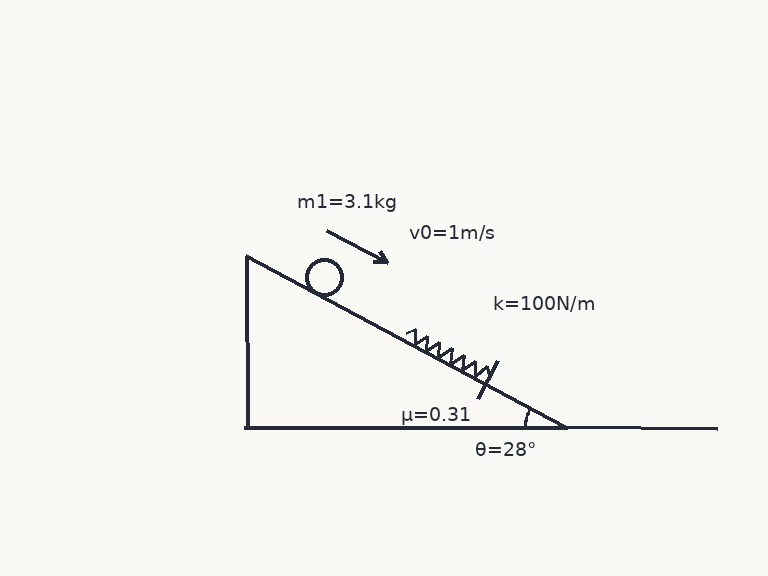ball: (303, 256, 345, 298)
ramp: (243, 255, 567, 429)
spring: (404, 327, 491, 379)
